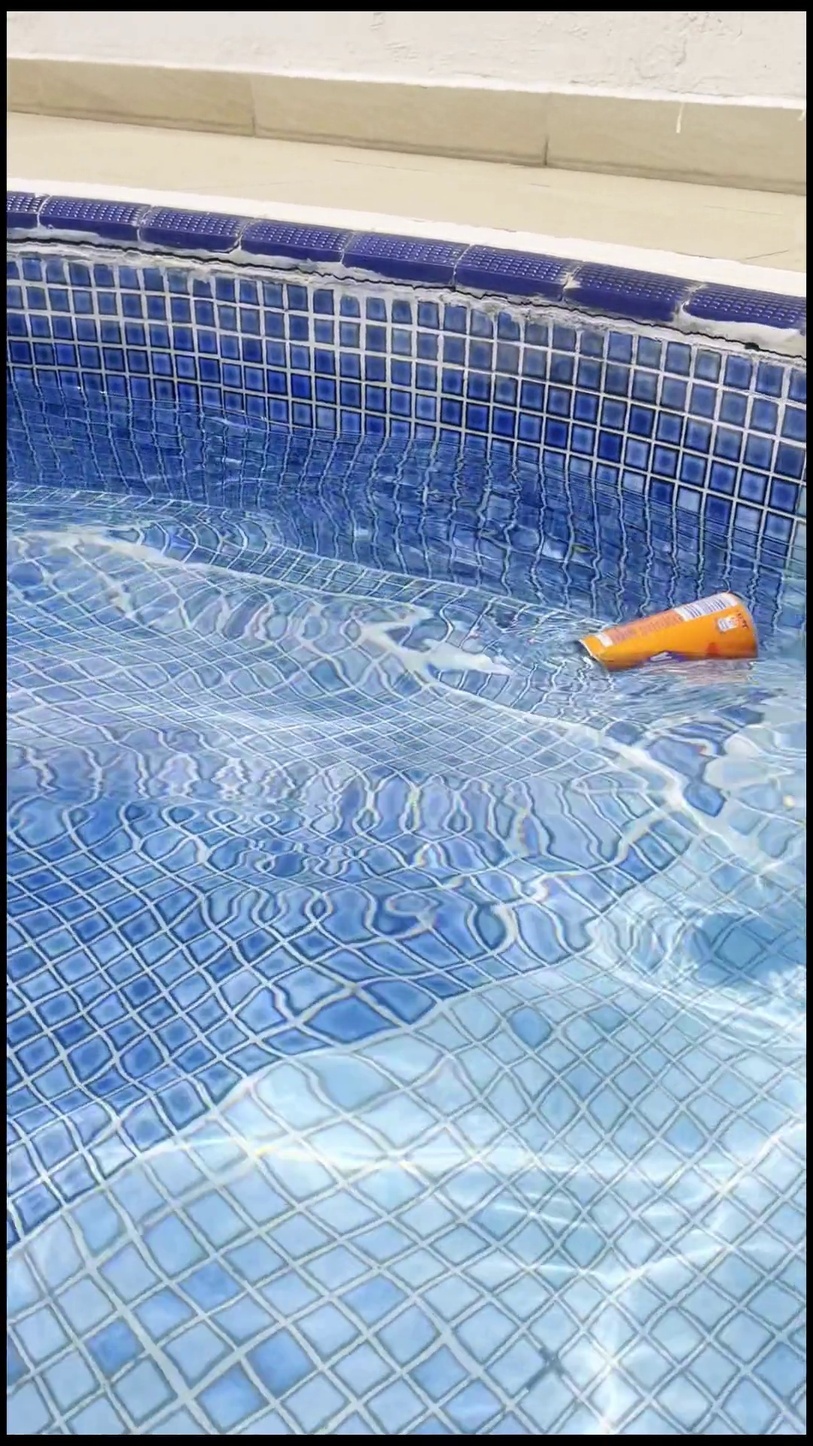debris: (566, 566, 763, 739)
